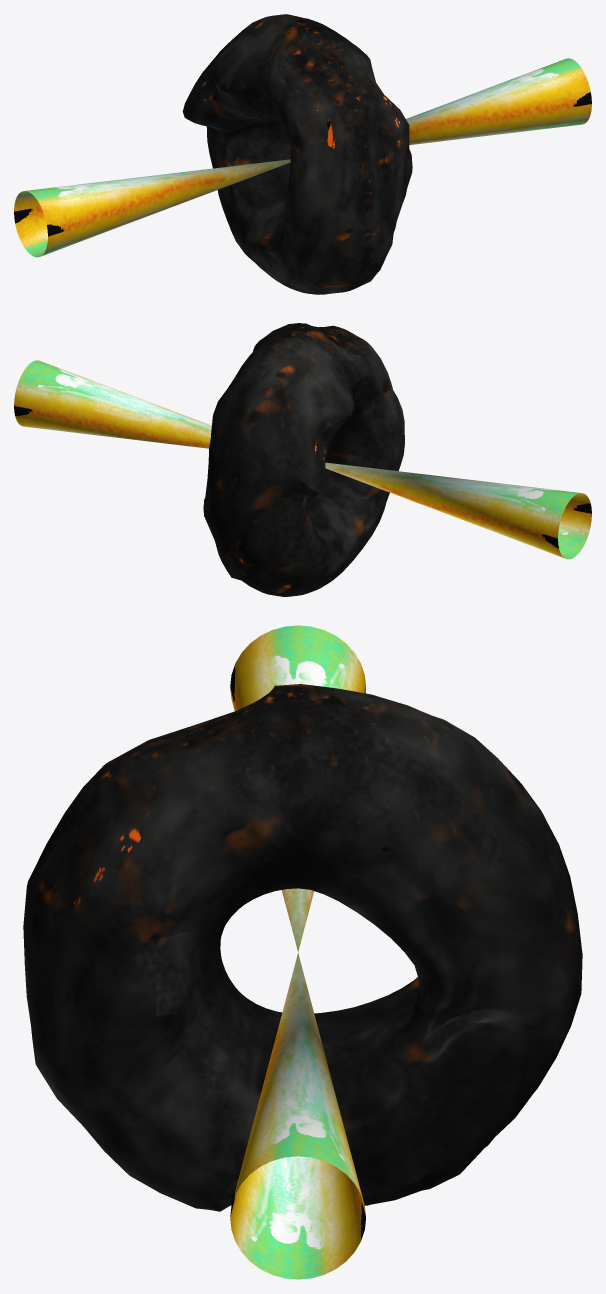
File: Quasar.fbx
The picture shows the model from 3 angles, top to bottom: view 1: azimuth 30°, elevation 25°; view 2: azimuth 150°, elevation 25°; view 3: azimuth 270°, elevation 25°; orthographic projection. The views are drawn at different scales.
Visible parts, largest first — view 1: Cone; view 2: Cone; view 3: Cone.
Part boxes in pixels (left/top/right/bottom): Cone: left=14, top=14, right=591, bottom=294; Cone: left=14, top=323, right=591, bottom=596; Cone: left=23, top=625, right=582, bottom=1279.
Size of the model in its own units: 2754 by 1242 by 1226.
